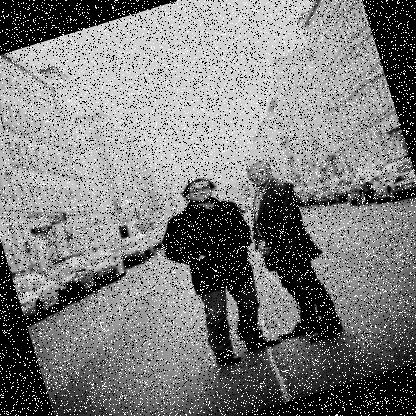Car: (10, 227, 175, 323), (292, 152, 415, 228)
